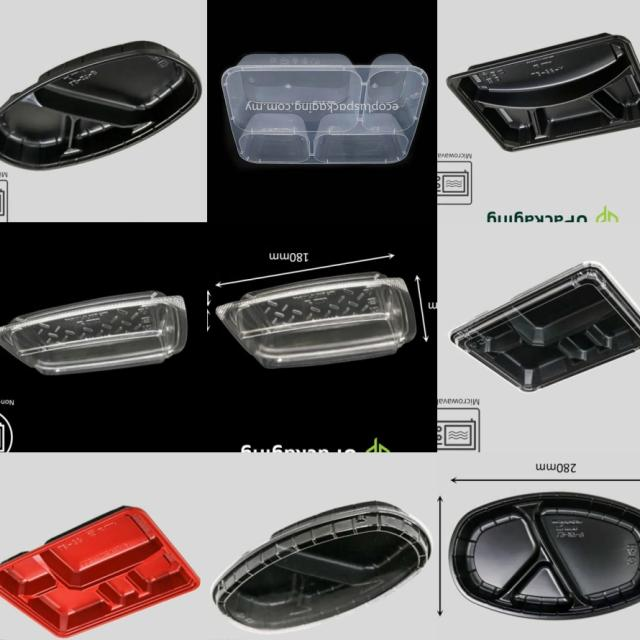plastik: (213, 502, 429, 630), (0, 508, 199, 638), (0, 42, 202, 170), (452, 263, 640, 391), (450, 494, 640, 619), (222, 54, 427, 163), (448, 35, 640, 151), (216, 273, 417, 368), (0, 291, 187, 375)
